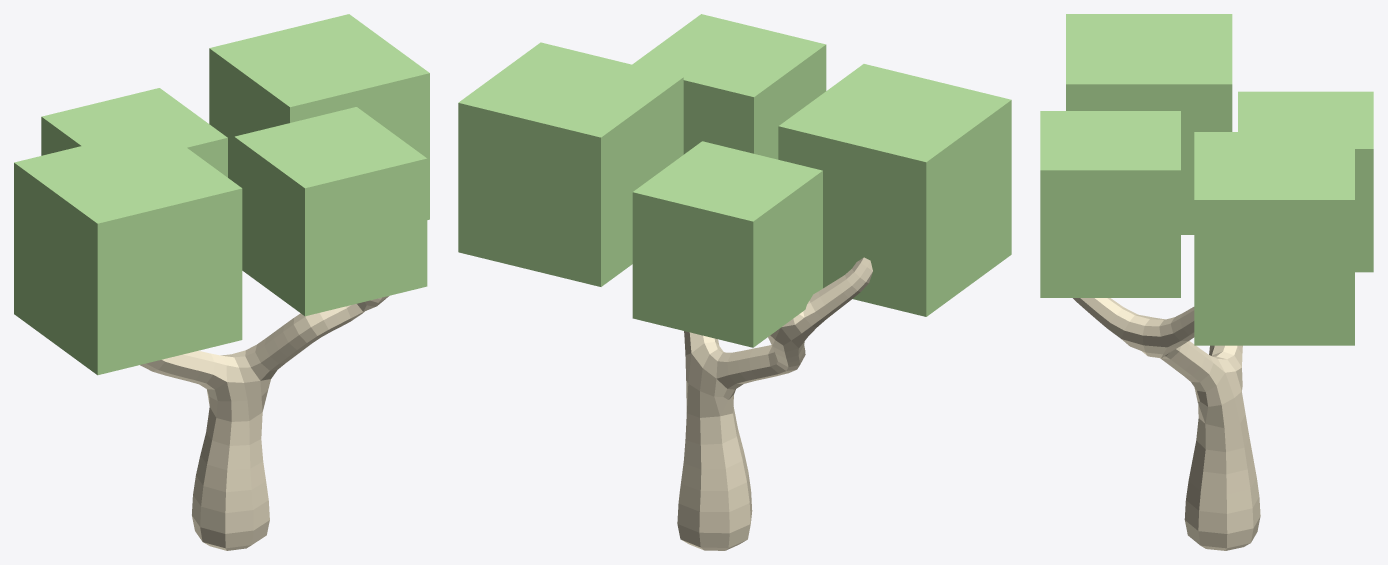
The model's file is redgumtree_level0.glb.
The picture shows the model from 3 angles, left to right: view 1: azimuth 30°, elevation 25°; view 2: azimuth 150°, elevation 25°; view 3: azimuth 270°, elevation 25°; orthographic projection. The views are drawn at different scales.
Visible parts, largest first — view 1: 平面; view 2: 平面; view 3: 平面.
Part boxes in pixels (x1,y1,x2,y2): 平面: [14, 14, 429, 550]; 平面: [458, 14, 1011, 550]; 平面: [1040, 14, 1373, 550].
Size of the model in its own units: 4.09 by 4.26 by 2.99.
